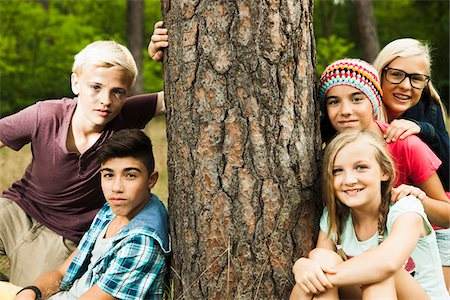Person: (1, 16, 184, 300), (274, 133, 447, 300), (290, 54, 450, 227), (19, 129, 171, 300), (357, 36, 450, 193)
